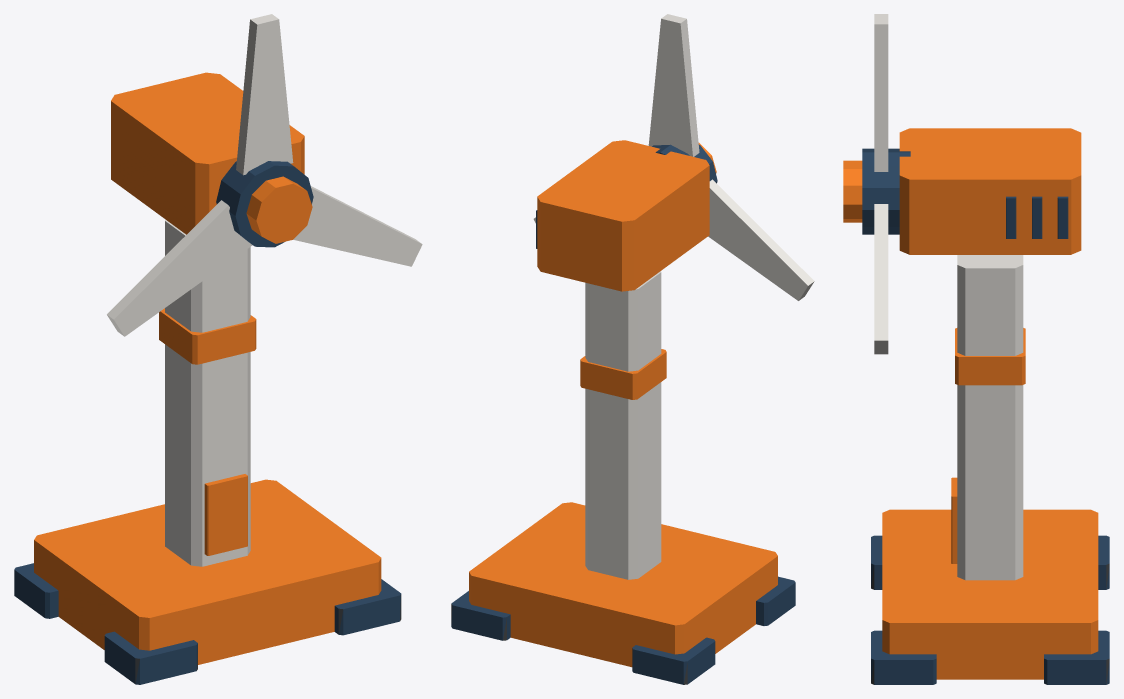
Rendered from wind_turbine.glb.
The picture shows the model from 3 angles, left to right: view 1: azimuth 30°, elevation 25°; view 2: azimuth 150°, elevation 25°; view 3: azimuth 270°, elevation 25°; orthographic projection. The views are drawn at different scales.
Parts seen in each view (by area): view 1: base, tower, blade (×3), nacelle, foot (×3), hub_cap, access_hatch, tower_band, hub; view 2: base, tower, nacelle, blade (×2), foot (×3), tower_band; view 3: base, nacelle, tower, foot (×4), blade (×2), hub, tower_band, vent (×3), hub_cap, access_hatch.
Part boxes in pixels (x1,y1,x2,y2): base: (34,479,381,664); tower: (165,220,250,566); blade (×3): (107,14,422,336); nacelle: (111,72,304,234); foot (×3): (14,563,401,684); hub_cap: (246,176,312,243); access_hatch: (204,474,247,555); tower_band: (159,308,256,364); hub: (216,161,313,247); base: (469,502,777,667); tower: (585,271,661,579); nacelle: (537,140,709,291); blade (×2): (648,14,814,300); foot (×3): (451,576,795,684); tower_band: (580,349,666,399); base: (882,509,1098,679); nacelle: (899,128,1081,254); tower: (957,255,1023,580); foot (×4): (871,535,1109,684); blade (×2): (874,14,888,354); hub: (862,148,910,234); tower_band: (955,328,1025,385); vent (×3): (1006,196,1068,238); hub_cap: (843,160,862,222); access_hatch: (951,477,957,563).
Size of the model in its own units: 1.98 by 3.85 by 1.54.
